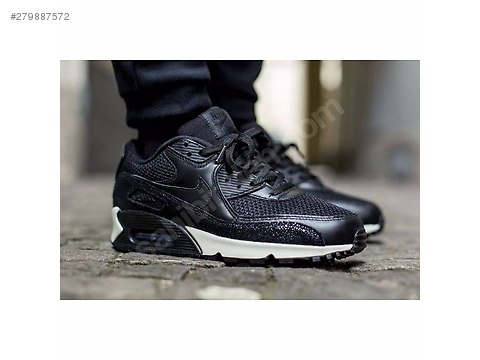nike: (136, 168, 215, 212)
